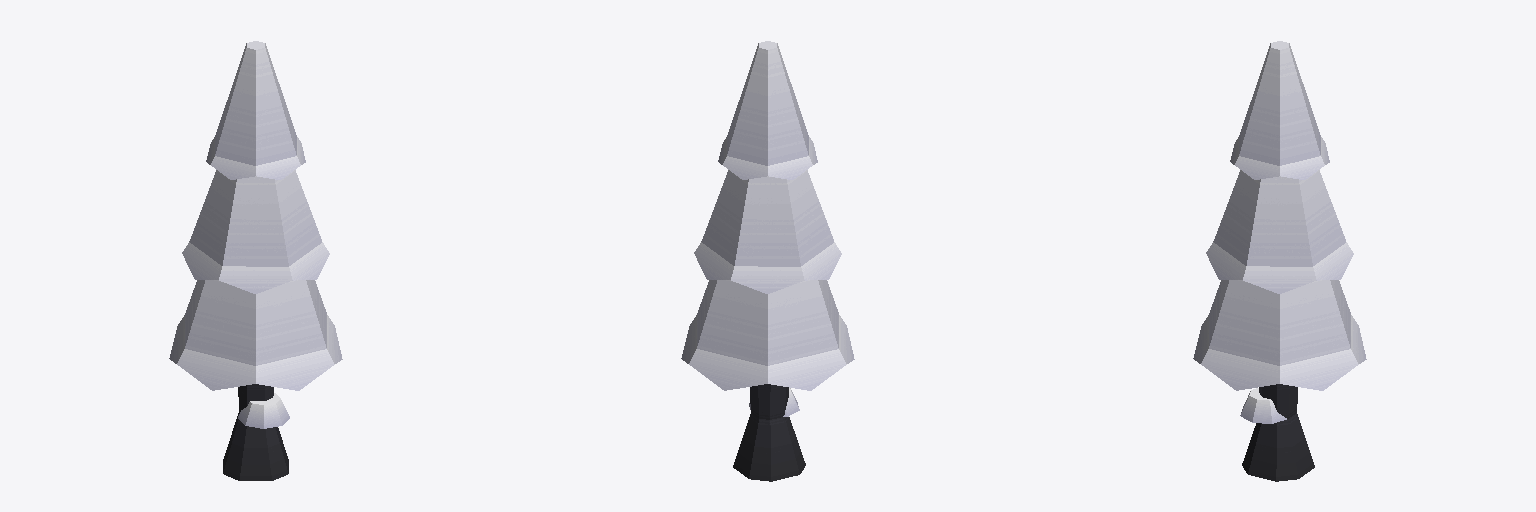
The picture shows the model from 3 angles: view 1: azimuth 30°, elevation 25°; view 2: azimuth 150°, elevation 25°; view 3: azimuth 270°, elevation 25°; orthographic projection.
Parts seen in each view (by area): view 1: tree.050; view 2: tree.050; view 3: tree.050.
Part boxes in pixels (left/top/right/bottom): tree.050: left=169, top=41, right=342, bottom=480; tree.050: left=681, top=41, right=854, bottom=481; tree.050: left=1193, top=41, right=1366, bottom=481.
Size of the model in its own units: 1.36 by 3.47 by 1.3.
Materials: 1 (1 with a texture image).